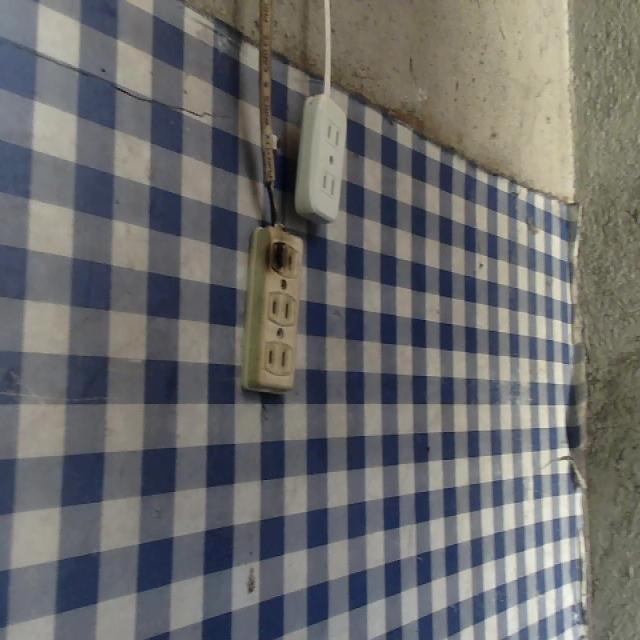-: (256, 234, 291, 278)
